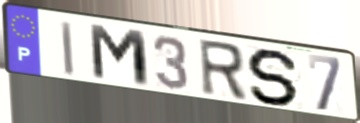3: (151, 34, 192, 93)
7: (306, 52, 344, 116)
I: (59, 20, 77, 79)
M: (87, 22, 154, 91)
R: (196, 37, 250, 104)
S: (245, 47, 303, 108)
